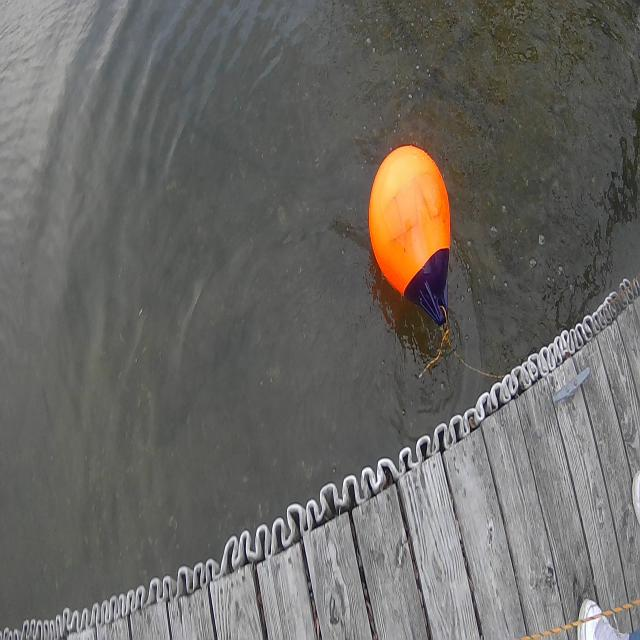Buoy: (367, 136, 457, 336)
